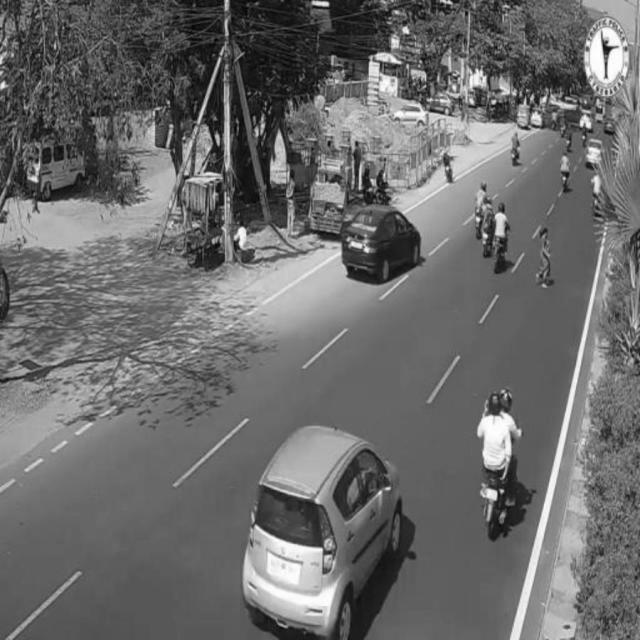person: (536, 226, 552, 294), (286, 172, 296, 236)
vehicle: (242, 420, 406, 640), (476, 385, 522, 532), (343, 207, 421, 285), (490, 203, 510, 273), (482, 188, 496, 259), (586, 132, 604, 172), (475, 186, 485, 243), (560, 154, 570, 192), (511, 130, 521, 167), (592, 175, 600, 213)
